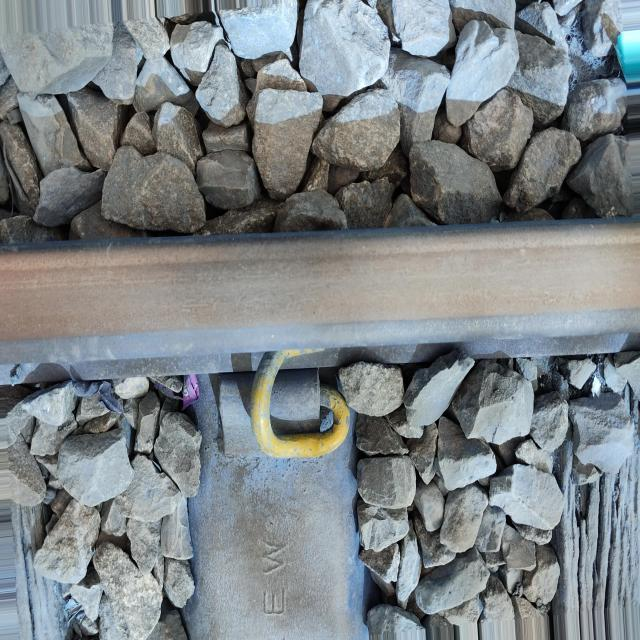Good Fasteners: (212, 350, 355, 460)
